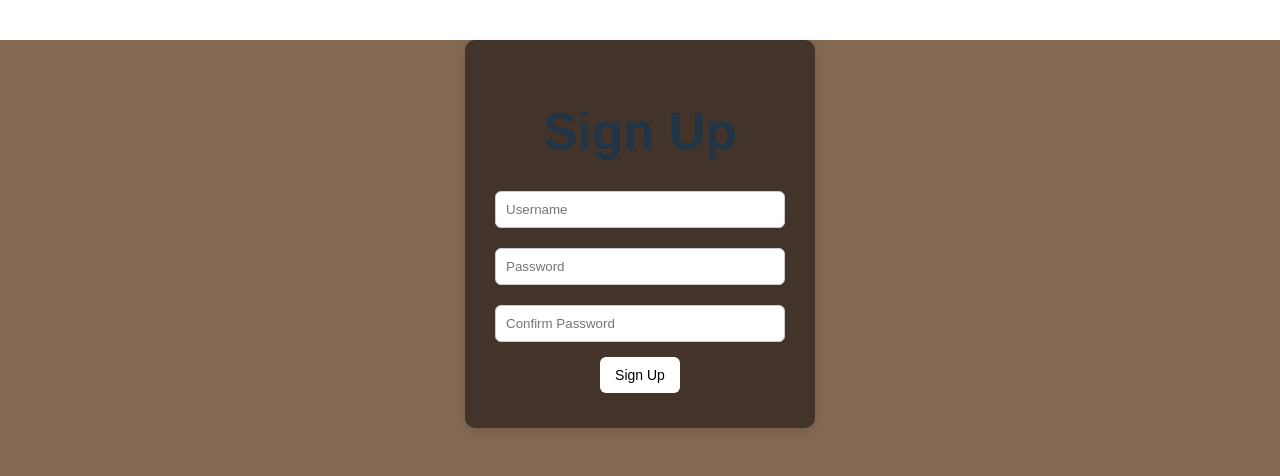
it: Signup › shows an error when passwords do not match
The image size is (1280, 476).
In the field with placeholder "Username": (640, 209) [495, 191, 785, 228], type "simpleUser"
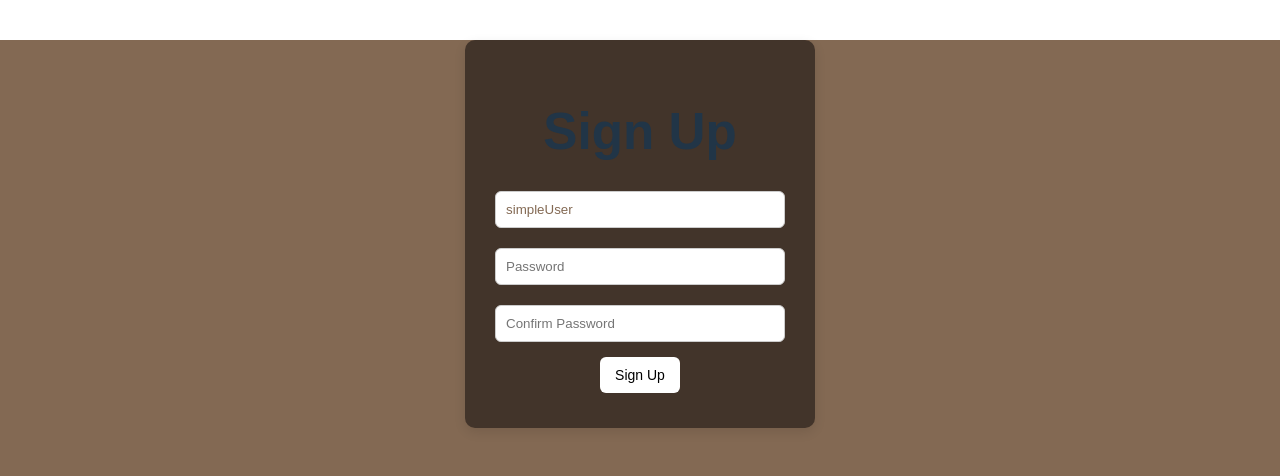
In the password field with placeholder "Password": (640, 266) [495, 248, 785, 285], type "Password1!"
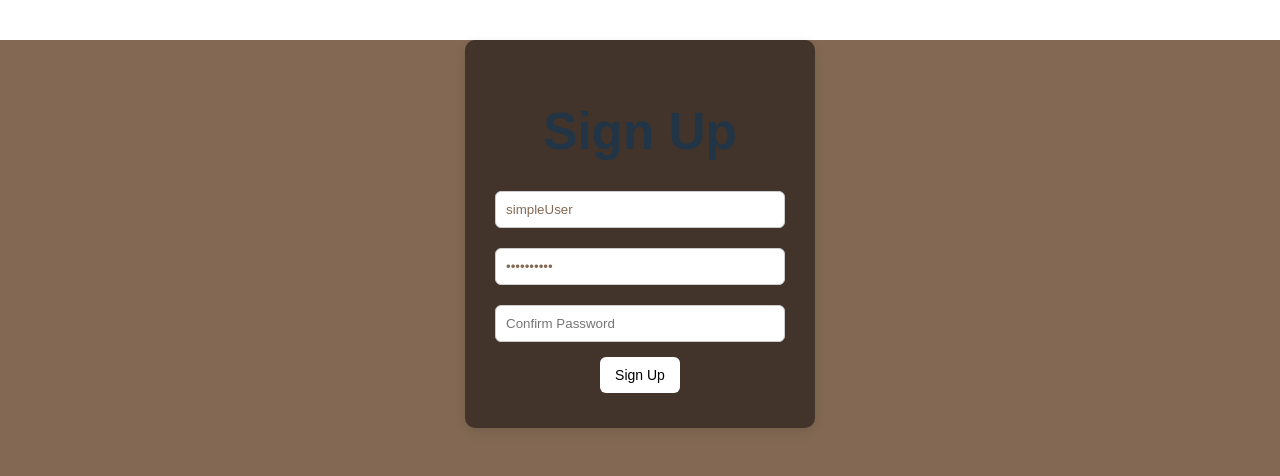
In the password field with placeholder "Confirm Password": (640, 323) [495, 305, 785, 342], type "Different1!"
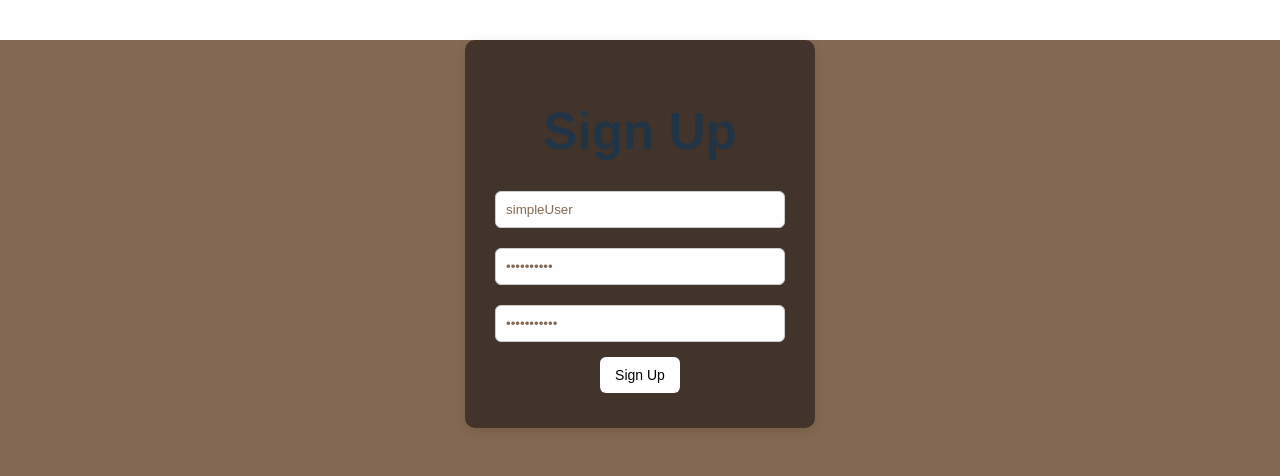
Click the button "Sign Up": (640, 375) [600, 357, 680, 393]
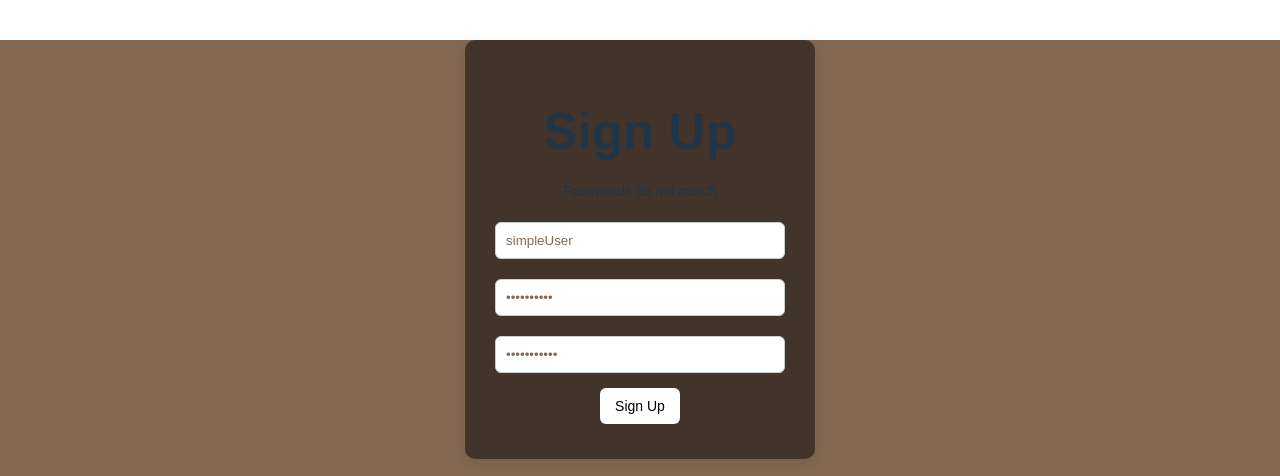
Now the text "Passwords do not match" is shown, box [563, 183, 717, 199]
